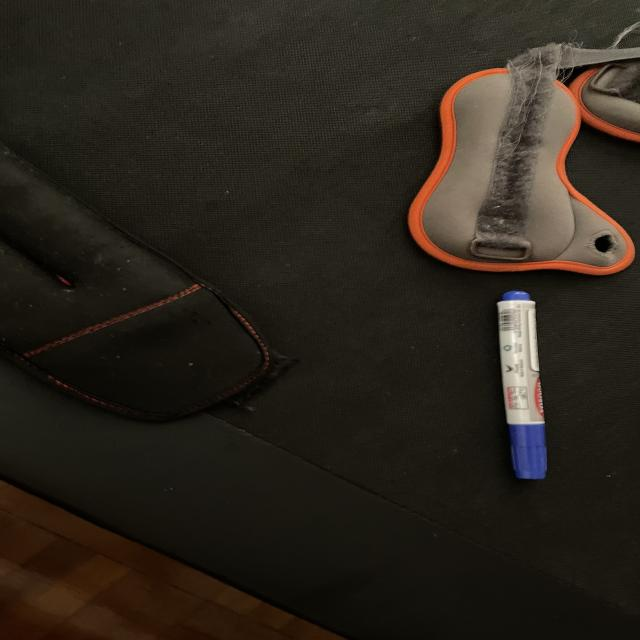marker: (497, 291, 547, 479)
